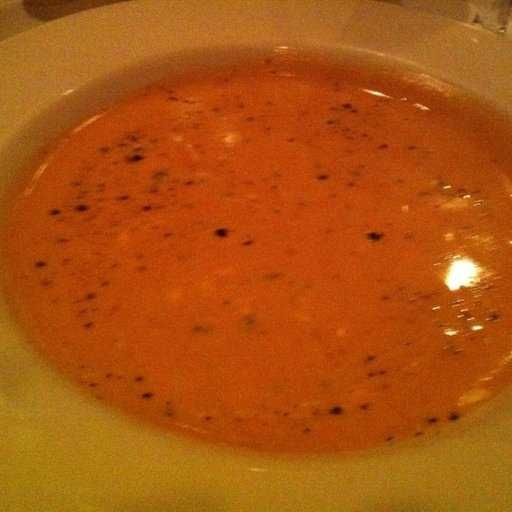soup: (9, 57, 512, 475)
